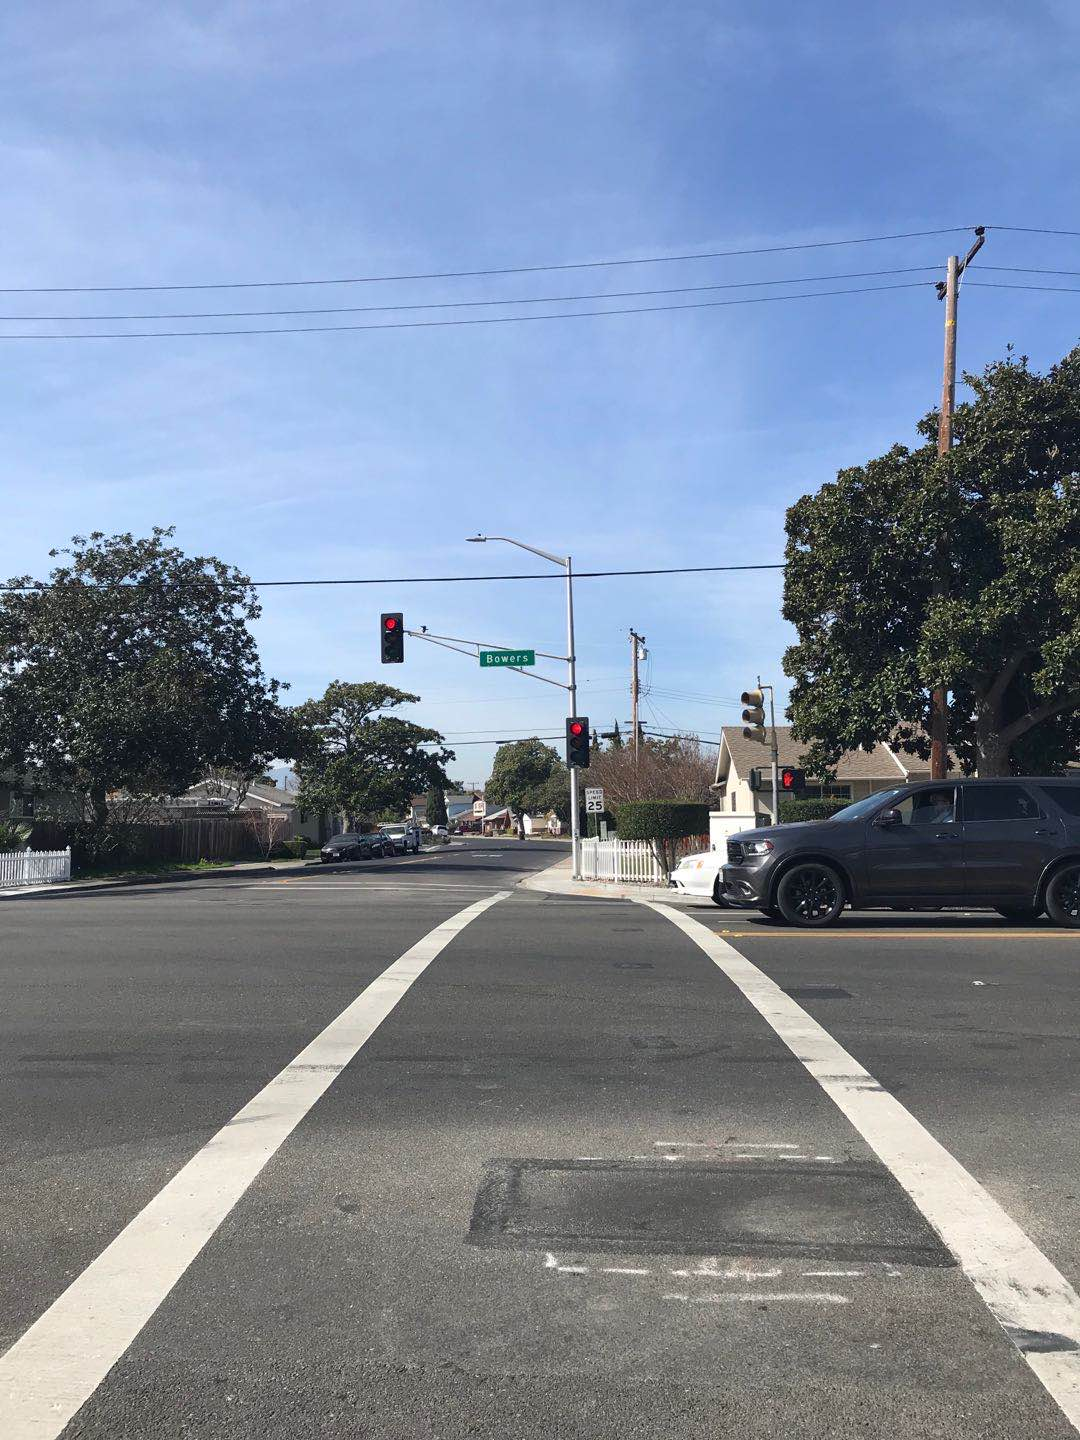red_light: (383, 615, 404, 657), (569, 717, 587, 763)
